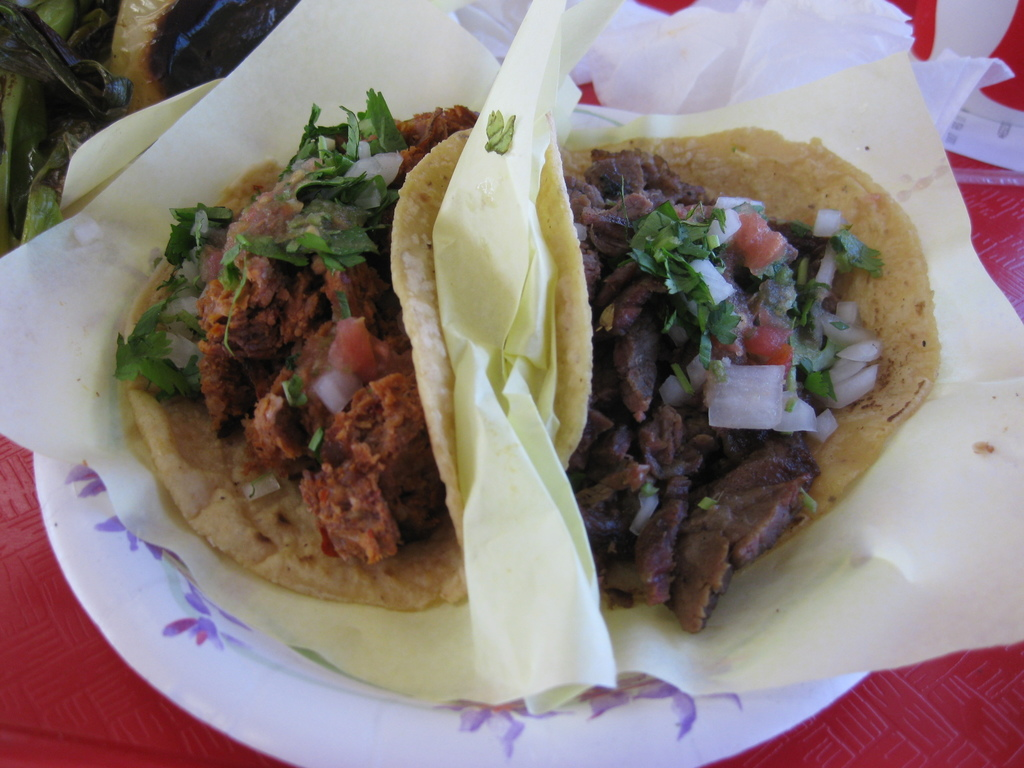taco: (109, 77, 515, 645), (532, 110, 953, 642)
